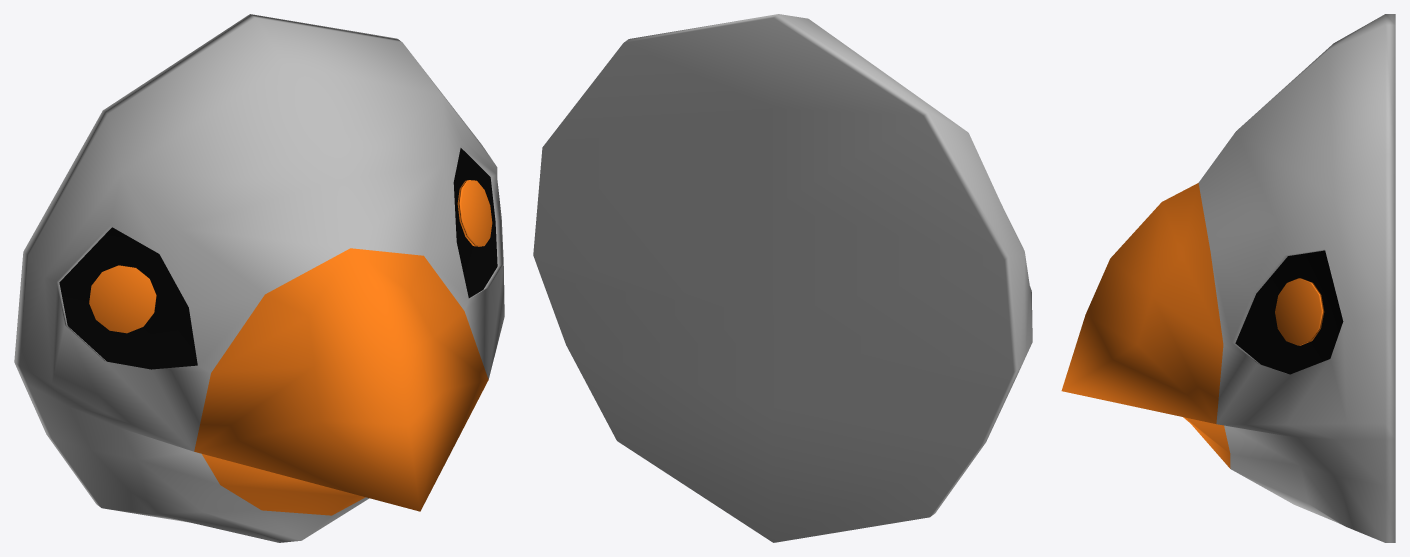
File: bird.fbx
The picture shows the model from 3 angles, left to right: view 1: azimuth 30°, elevation 25°; view 2: azimuth 150°, elevation 25°; view 3: azimuth 270°, elevation 25°; orthographic projection. The views are drawn at different scales.
Parts seen in each view (by area): view 1: bird; view 2: bird; view 3: bird.
Boxes of the visible parts, box(x1,y1,x2,y2) form: bird: box(14, 14, 504, 542); bird: box(533, 14, 1032, 542); bird: box(1061, 14, 1395, 542).
Size of the model in its own units: 0.3129 by 0.3268 by 0.1956.
